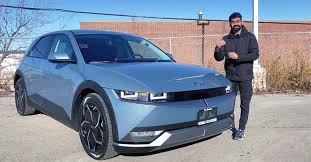Honda Ioniq: (12, 27, 239, 160)
